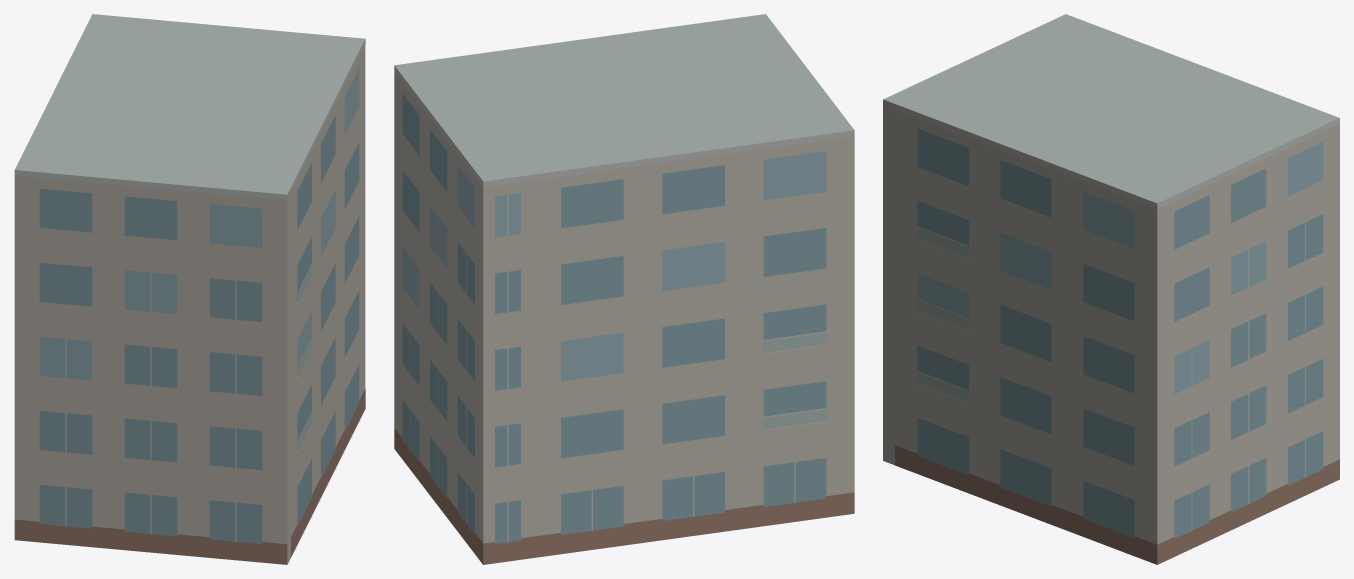
File: survey-upis-32961249.glb
3 renders of one model, left to right at view 1: azimuth 30°, elevation 25°; view 2: azimuth 150°, elevation 25°; view 3: azimuth 270°, elevation 25°, orthographic. The views are drawn at different scales.
Parts seen in each view (by area): view 1: survey-upis-32961249.tmp; view 2: survey-upis-32961249.tmp; view 3: survey-upis-32961249.tmp.
Part boxes in pixels (left/top/right/bottom): survey-upis-32961249.tmp: left=14, top=14, right=365, bottom=564; survey-upis-32961249.tmp: left=394, top=14, right=854, bottom=564; survey-upis-32961249.tmp: left=883, top=14, right=1339, bottom=564.
Bounding box in the file's own units: 17.43 × 15.5 × 17.76.
